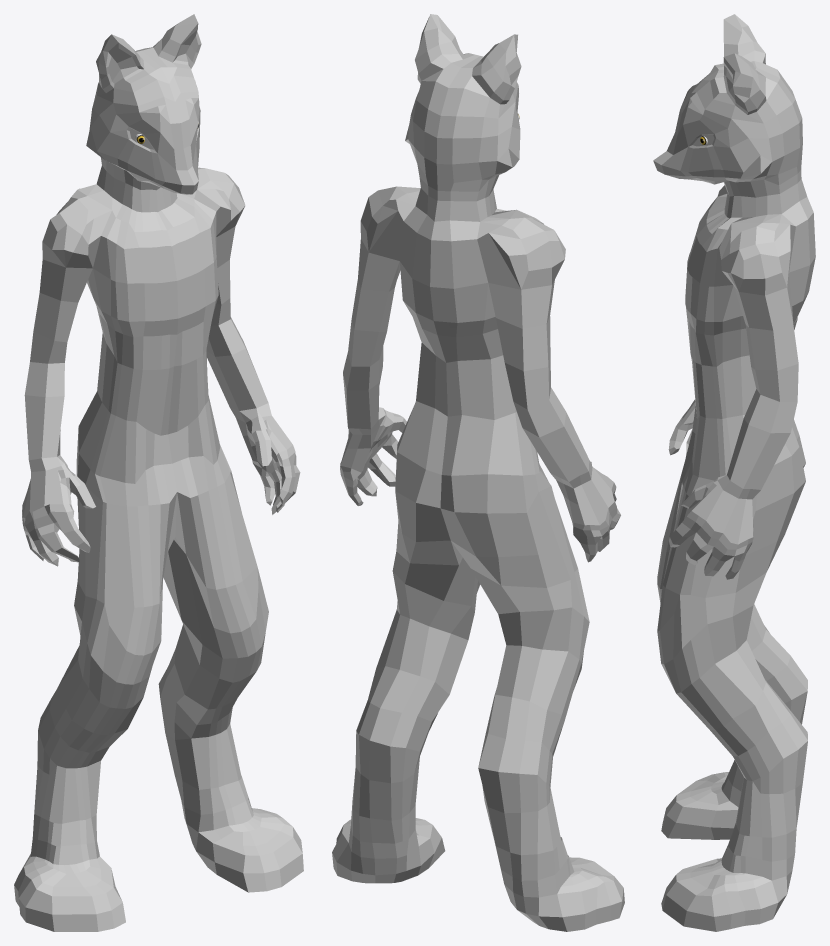
The model's file is Smoothie3.0.FBX.
3 views of the same model, side by side, from view 1: azimuth 30°, elevation 25°; view 2: azimuth 150°, elevation 25°; view 3: azimuth 270°, elevation 25° (orthographic). The views are drawn at different scales.
Parts seen in each view (by area): view 1: Plane001; view 2: Plane001; view 3: Plane001.
Part boxes in pixels (x1,y1,x2,y2): Plane001: [14, 14, 303, 931]; Plane001: [332, 14, 624, 931]; Plane001: [653, 14, 815, 931].
Size of the model in its own units: 2.49 by 7.39 by 1.31.
